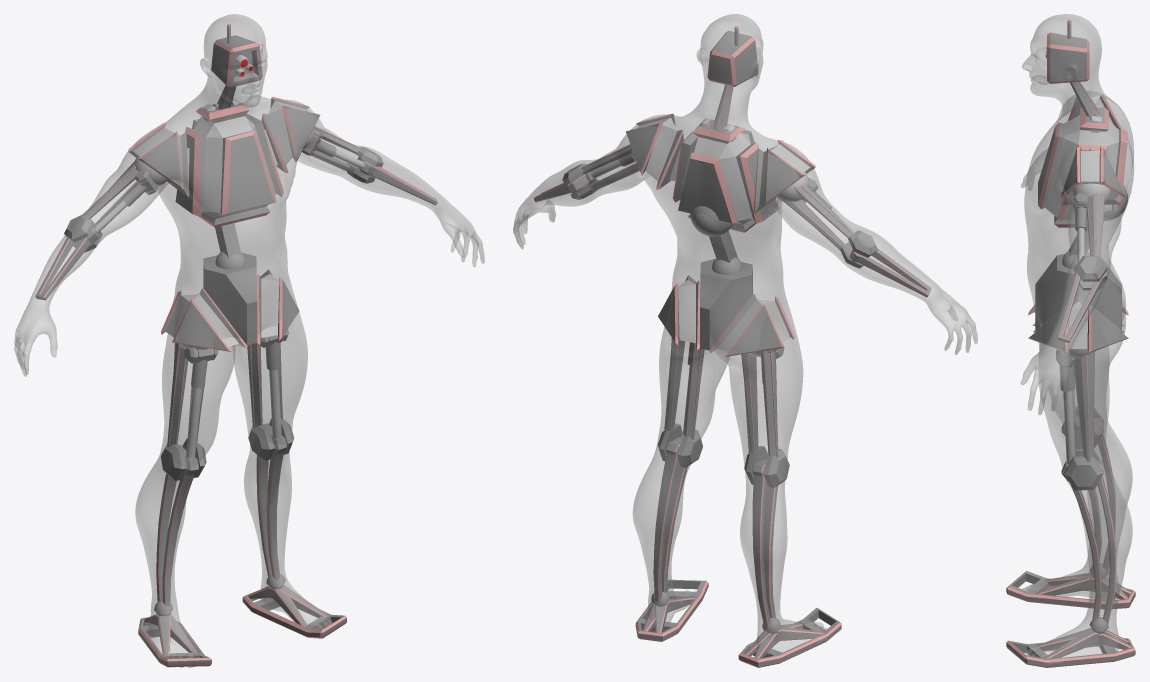
Rendered from rendertest.fbx.
3 renders of one model, left to right at view 1: azimuth 30°, elevation 25°; view 2: azimuth 150°, elevation 25°; view 3: azimuth 270°, elevation 25°, orthographic.
Parts seen in each view (by area): view 1: male_zbrush, chest, pelv4, Forelimb (×4), pelv8, pasted__FootPlat3 (×4), pCube34 (×2), pCylinder51 (×3), Turret1, pCube37, pCylinder55; view 2: male_zbrush, pelv4, pasted__FootPlat3 (×4), chest, Forelimb (×3), pelv8, pCube34 (×2), pCylinder51 (×3), Turret1, pSphere2, pCube37; view 3: male_zbrush, pelv4, chest, Forelimb (×3), pCube34 (×2), pasted__FootPlat3 (×2), pCylinder51 (×3), pelv8, Turret1, pCube36 (×2), pCube37 (×2), pCylinder55 (×2) (+4 smaller).
Part boxes in pixels (<box>): male_zbrush: <box>14,14,484,667</box>; chest: <box>175,102,283,227</box>; pelv4: <box>161,253,299,351</box>; Forelimb (×4): <box>35,156,437,606</box>; pelv8: <box>128,96,320,197</box>; pasted__FootPlat3 (×4): <box>82,126,360,447</box>; pCube34 (×2): <box>138,591,346,667</box>; pCylinder51 (×3): <box>64,215,294,480</box>; Turret1: <box>211,35,262,87</box>; pCube37: <box>248,585,328,617</box>; pCylinder55: <box>186,387,202,459</box>; male_zbrush: <box>513,14,977,657</box>; pelv4: <box>658,259,794,356</box>; pasted__FootPlat3 (×4): <box>580,144,855,458</box>; chest: <box>672,118,778,232</box>; Forelimb (×3): <box>653,249,931,628</box>; pelv8: <box>625,113,815,213</box>; pCube34 (×2): <box>635,579,841,667</box>; pCylinder51 (×3): <box>658,230,877,487</box>; Turret1: <box>707,30,758,86</box>; pSphere2: <box>690,206,733,236</box>; pCube37: <box>744,626,823,656</box>; male_zbrush: <box>1020,14,1134,666</box>; pelv4: <box>1028,253,1128,352</box>; chest: <box>1038,107,1127,227</box>; Forelimb (×3): <box>1057,272,1115,624</box>; pCube34 (×2): <box>1006,571,1135,667</box>; pasted__FootPlat3 (×2): <box>1073,191,1104,462</box>; pCylinder51 (×3): <box>1064,255,1107,490</box>; pelv8: <box>1060,95,1125,204</box>; Turret1: <box>1047,32,1089,83</box>; pCube36 (×2): <box>1036,577,1131,650</box>; pCube37 (×2): <box>1044,573,1128,658</box>; pCylinder55 (×2): <box>1063,227,1084,463</box>.
Bounding box in the file's own units: 4.99 × 6.41 × 1.23.
